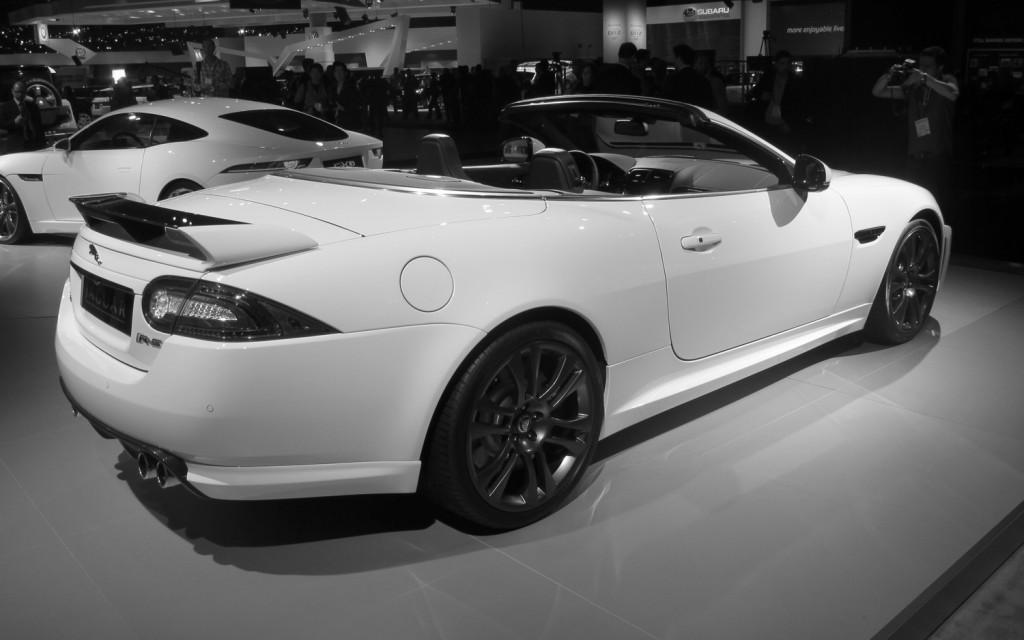car: (52, 84, 953, 532)
